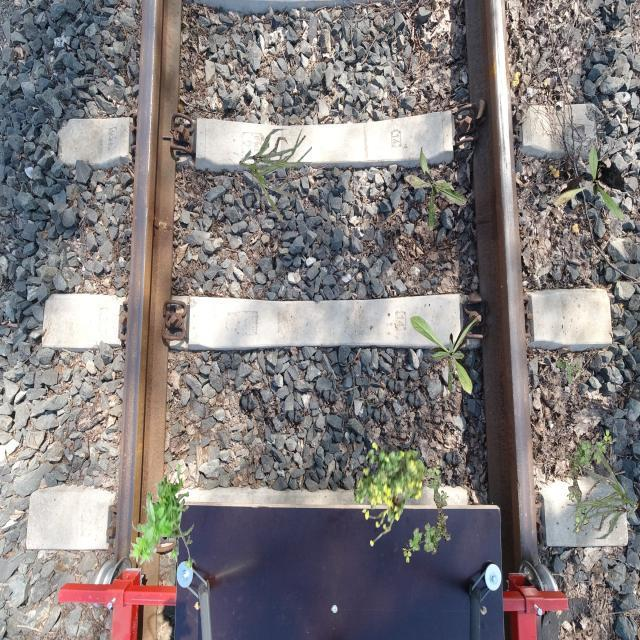Plant: (354, 442, 429, 547), (129, 463, 194, 570), (567, 446, 640, 540), (240, 129, 313, 222), (410, 314, 482, 395), (404, 147, 468, 231), (553, 145, 624, 220), (565, 430, 614, 534), (402, 459, 450, 562), (556, 354, 584, 384)
